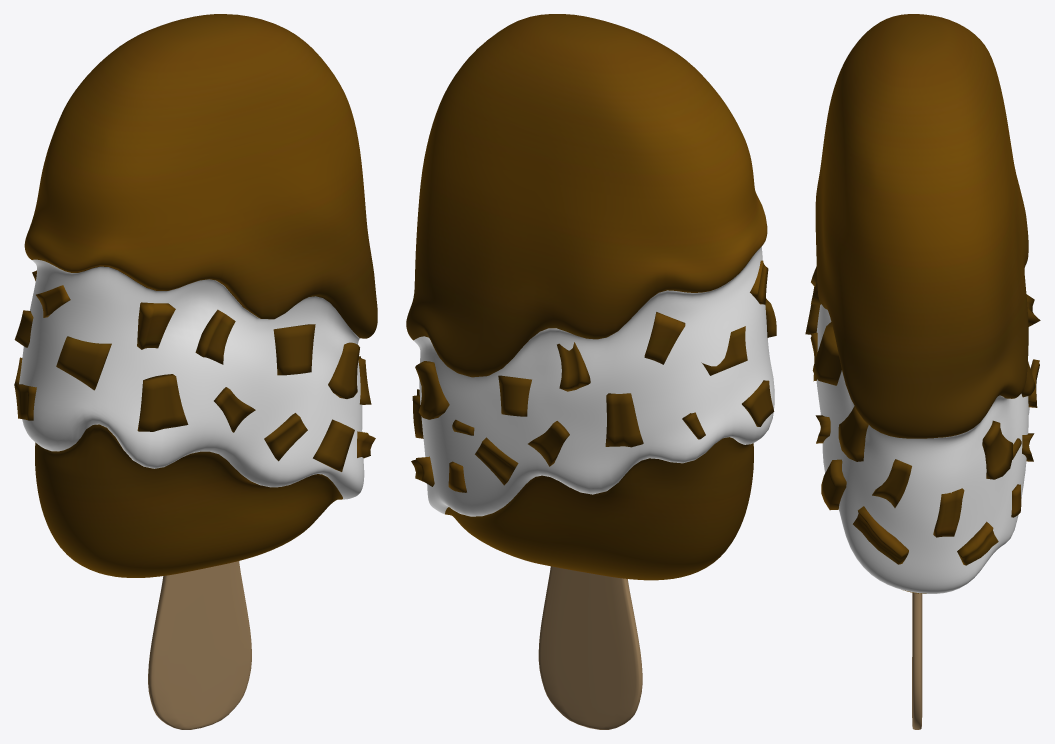
The model's file is Project Name.gltf.
The picture shows the model from 3 angles, left to right: view 1: azimuth 30°, elevation 25°; view 2: azimuth 150°, elevation 25°; view 3: azimuth 270°, elevation 25°; orthographic projection.
Visible parts, largest first — view 1: Chips, Chocolate, Stick; view 2: Chips, Chocolate, Stick; view 3: Chips, Chocolate, Stick.
Boxes of the visible parts, box(x1,y1,x2,y2) form: Chips: box(14, 14, 377, 577); Chocolate: box(19, 259, 364, 499); Stick: box(148, 561, 251, 729); Chips: box(406, 14, 776, 580); Chocolate: box(413, 246, 774, 516); Stick: box(538, 566, 642, 729); Chips: box(805, 14, 1040, 593); Chocolate: box(816, 304, 1029, 593); Stick: box(912, 592, 922, 729).
Size of the model in its own units: 0.0896 by 0.1744 by 0.0536.
Materials: 3 (1 with a texture image).
